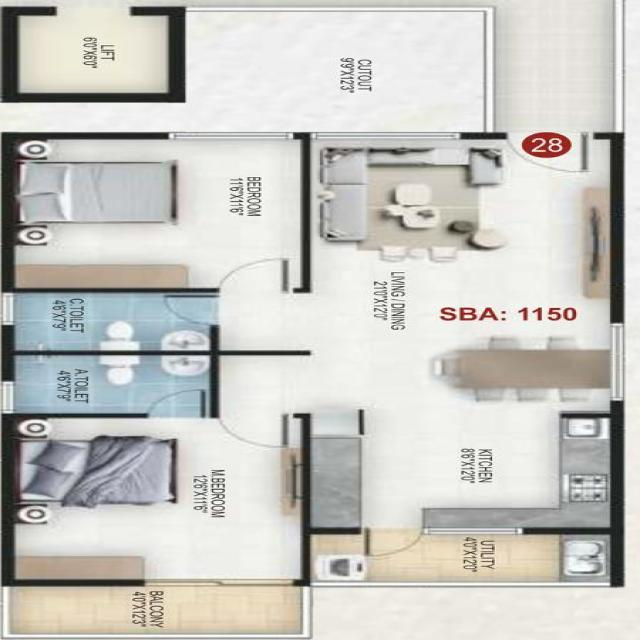Balcony-Sitout: (1, 587, 314, 638)
Bedroom: (1, 133, 300, 289)
Bedroom with Toilet: (4, 352, 309, 583)
Dining: (431, 331, 619, 409)
Enterance-Foyer: (495, 128, 595, 178)
Kitchen: (305, 413, 624, 529)
Living: (311, 132, 609, 291)
Toilet: (12, 355, 211, 415), (12, 292, 213, 350)
Utility: (309, 532, 611, 588)
